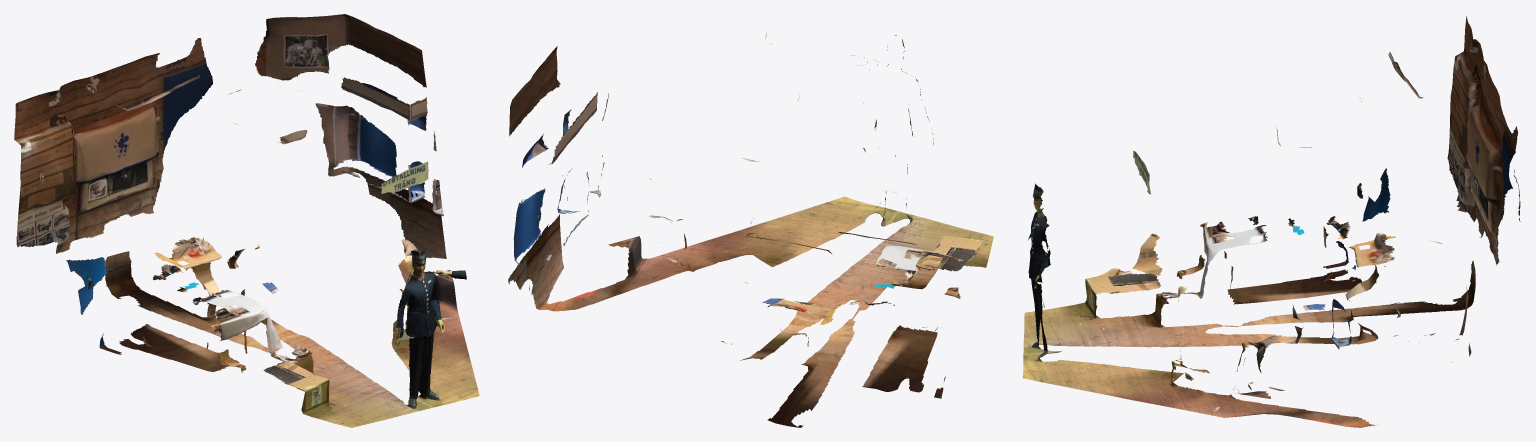
The model's file is MannequinnImage_Blue.glb.
3 renders of one model, left to right at view 1: azimuth 30°, elevation 25°; view 2: azimuth 150°, elevation 25°; view 3: azimuth 270°, elevation 25°, orthographic. The views are drawn at different scales.
Visible parts, largest first — view 1: MannequinnImage_Blue_lowPoly; view 2: MannequinnImage_Blue_lowPoly; view 3: MannequinnImage_Blue_lowPoly.
Part boxes in pixels (x1,y1,x2,y2): MannequinnImage_Blue_lowPoly: (14, 14, 479, 427); MannequinnImage_Blue_lowPoly: (508, 33, 993, 427); MannequinnImage_Blue_lowPoly: (1022, 16, 1520, 427).
Bounding box in the file's own units: 2.79 × 1.63 × 3.
Materials: 1 (1 with a texture image).
